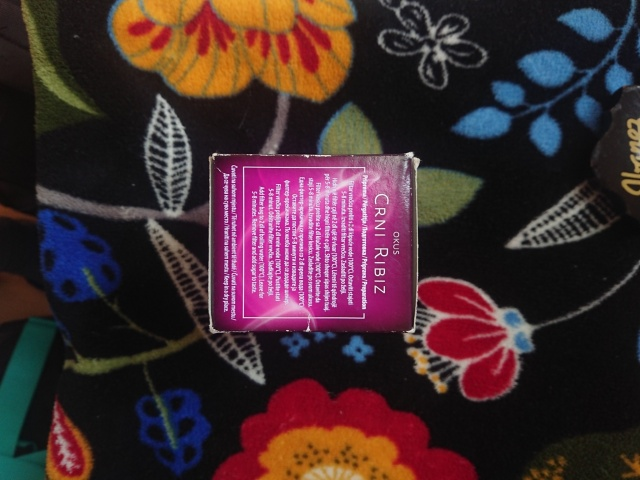Franck Black Currant Tea 60g: (203, 149, 423, 336)
